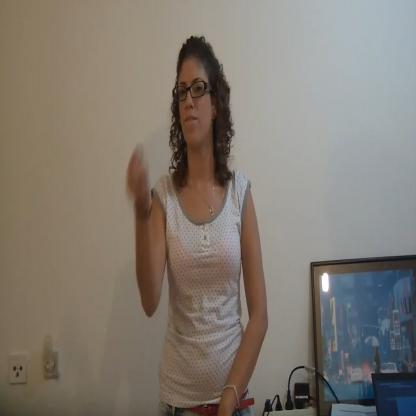Food: (124, 36, 272, 412)
